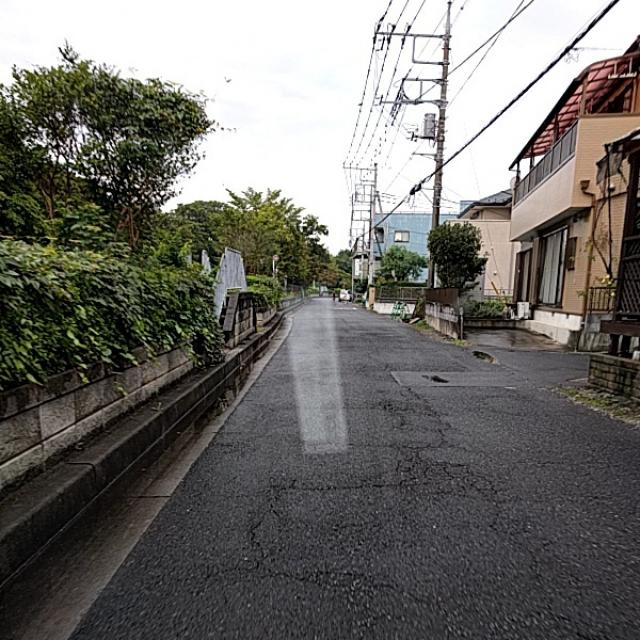pothole: (226, 422, 491, 548)
